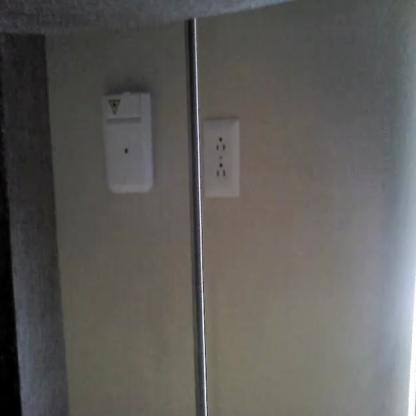OUTLET: (204, 118, 240, 198)
